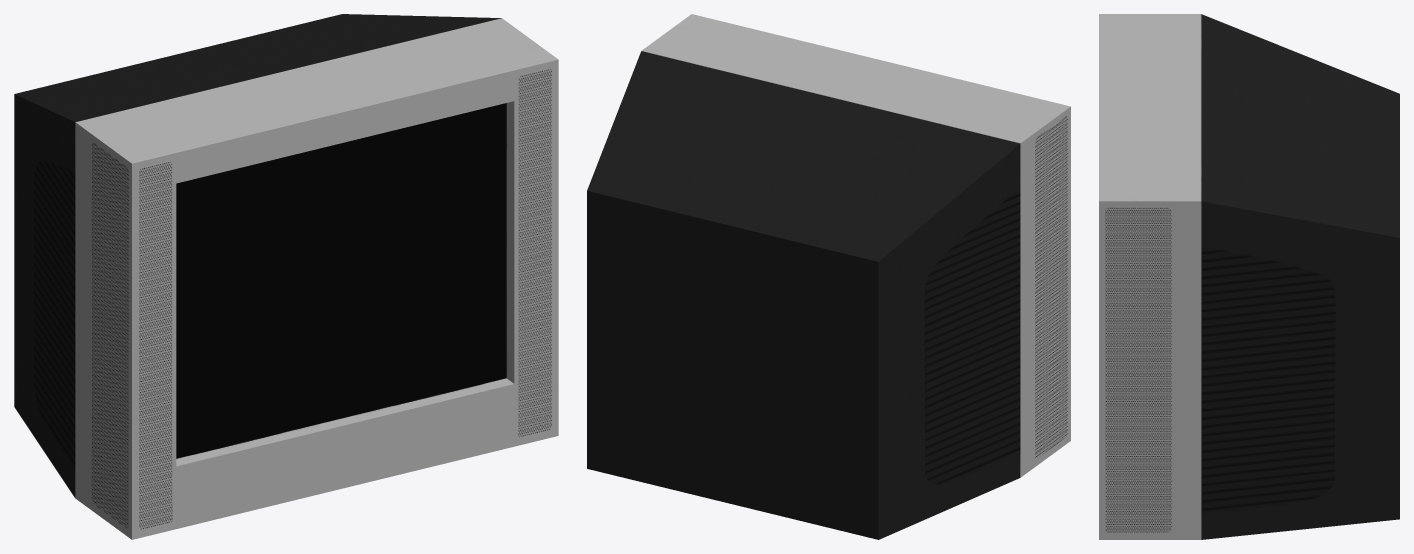
3 renders of one model, left to right at view 1: azimuth 30°, elevation 25°; view 2: azimuth 150°, elevation 25°; view 3: azimuth 270°, elevation 25°, orthographic. The views are drawn at different scales.
Parts seen in each view (by area): view 1: TV; view 2: TV; view 3: TV.
Part boxes in pixels (box(x1,y1,x2,y2)): TV: box(14, 14, 558, 539); TV: box(587, 14, 1070, 539); TV: box(1099, 14, 1399, 539).
Size of the model in its own units: 57.29 by 48.43 by 38.86.
1 material, 1 textured.
